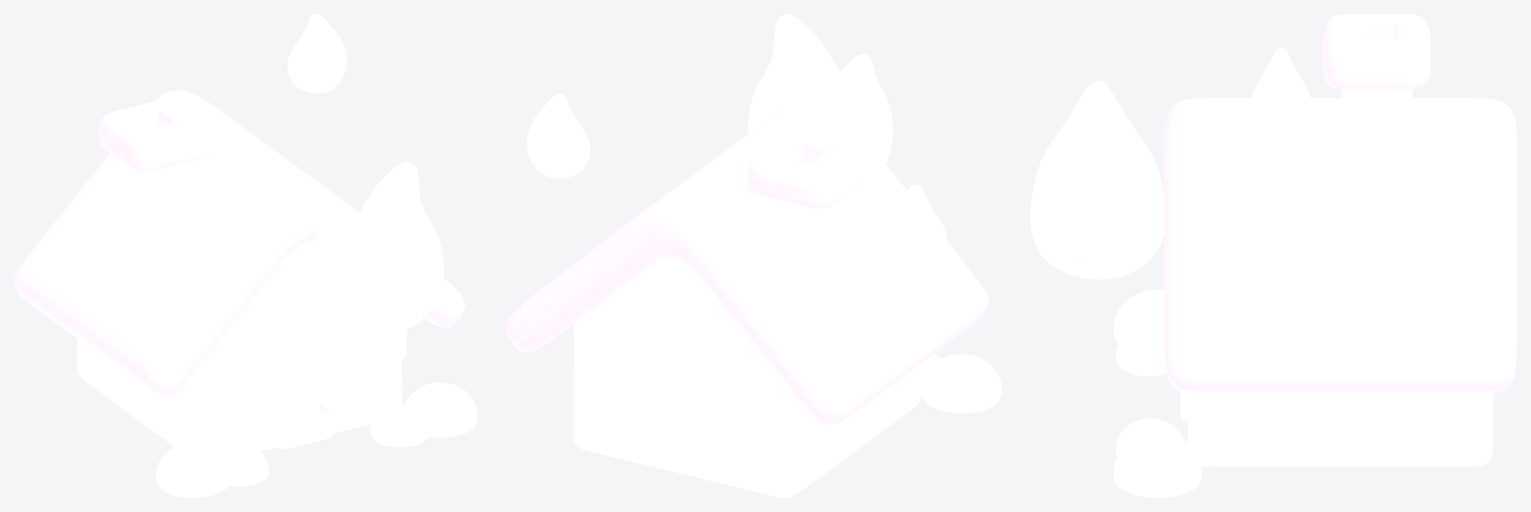
File: house-fire-icon.glb
3 renders of one model, left to right at view 1: azimuth 30°, elevation 25°; view 2: azimuth 150°, elevation 25°; view 3: azimuth 270°, elevation 25°, orthographic. The views are drawn at different scales.
Visible parts, largest first — view 1: houseonfire; view 2: houseonfire; view 3: houseonfire.
Boxes of the visible parts, x1,y1,x2,y2 form: houseonfire: (14,14,477,497); houseonfire: (506,14,1001,497); houseonfire: (1030,14,1516,497).
Bounding box in the file's own units: 0.5931 × 0.5641 × 0.6636.
1 material, 1 textured.
